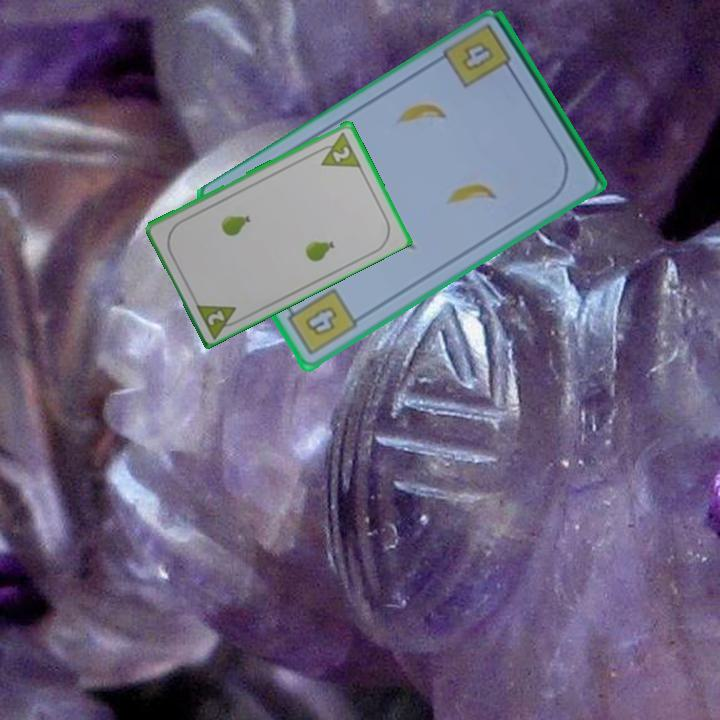2p: (312, 128, 364, 170), (204, 306, 228, 328)
4b: (281, 285, 361, 359), (457, 38, 497, 75)
